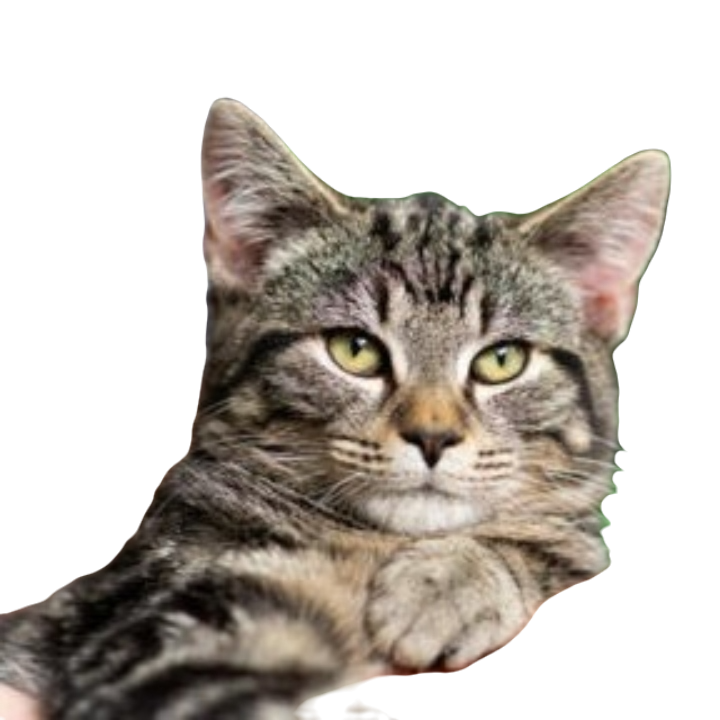Cat: (0, 95, 675, 719)
